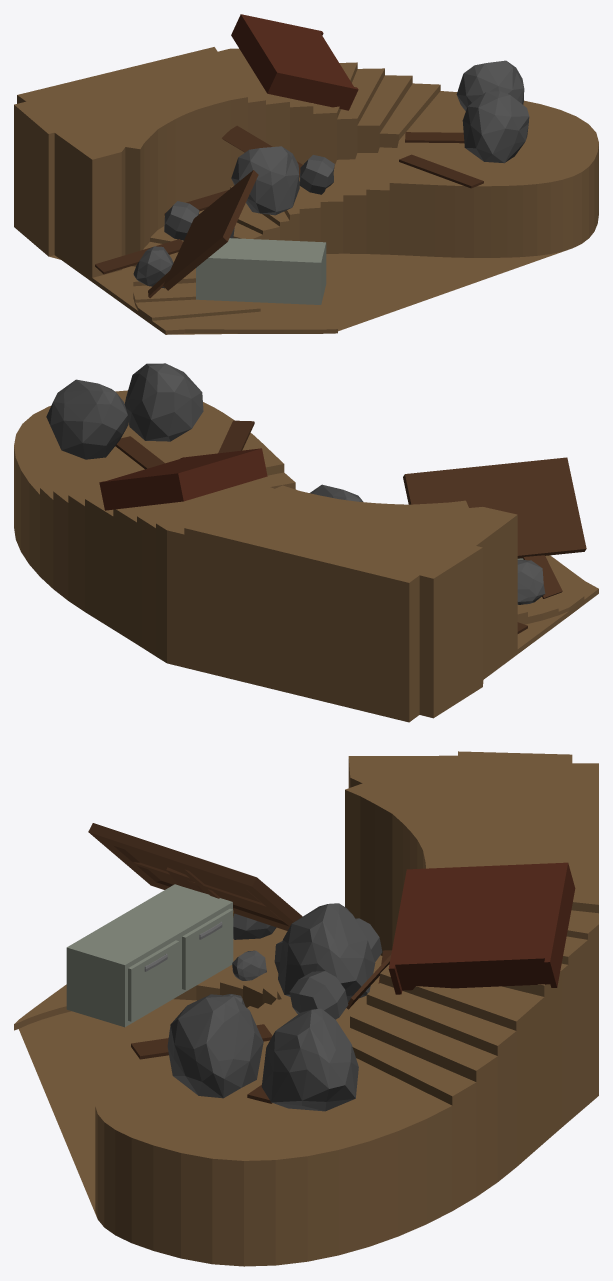
Rendered from Escada.fbx.
3 renders of one model, top to bottom at view 1: azimuth 30°, elevation 25°; view 2: azimuth 150°, elevation 25°; view 3: azimuth 270°, elevation 25°, orthographic. The views are drawn at different scales.
Visible parts, largest first — view 1: Cube.011; view 2: Cube.011; view 3: Cube.011.
Boxes of the visible parts, box(x1,y1,x2,y2) form: Cube.011: box(14, 14, 598, 334); Cube.011: box(14, 363, 598, 722); Cube.011: box(14, 751, 598, 1266).
Bounding box in the file's own units: 2833 × 941 × 2090.
